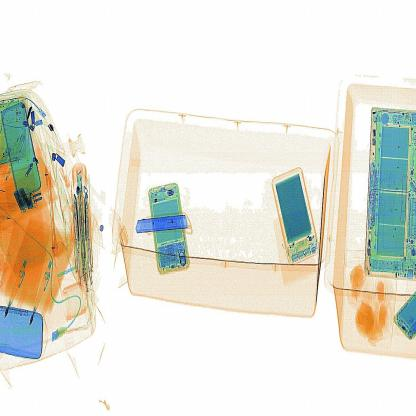pliers: (130, 208, 194, 238)
